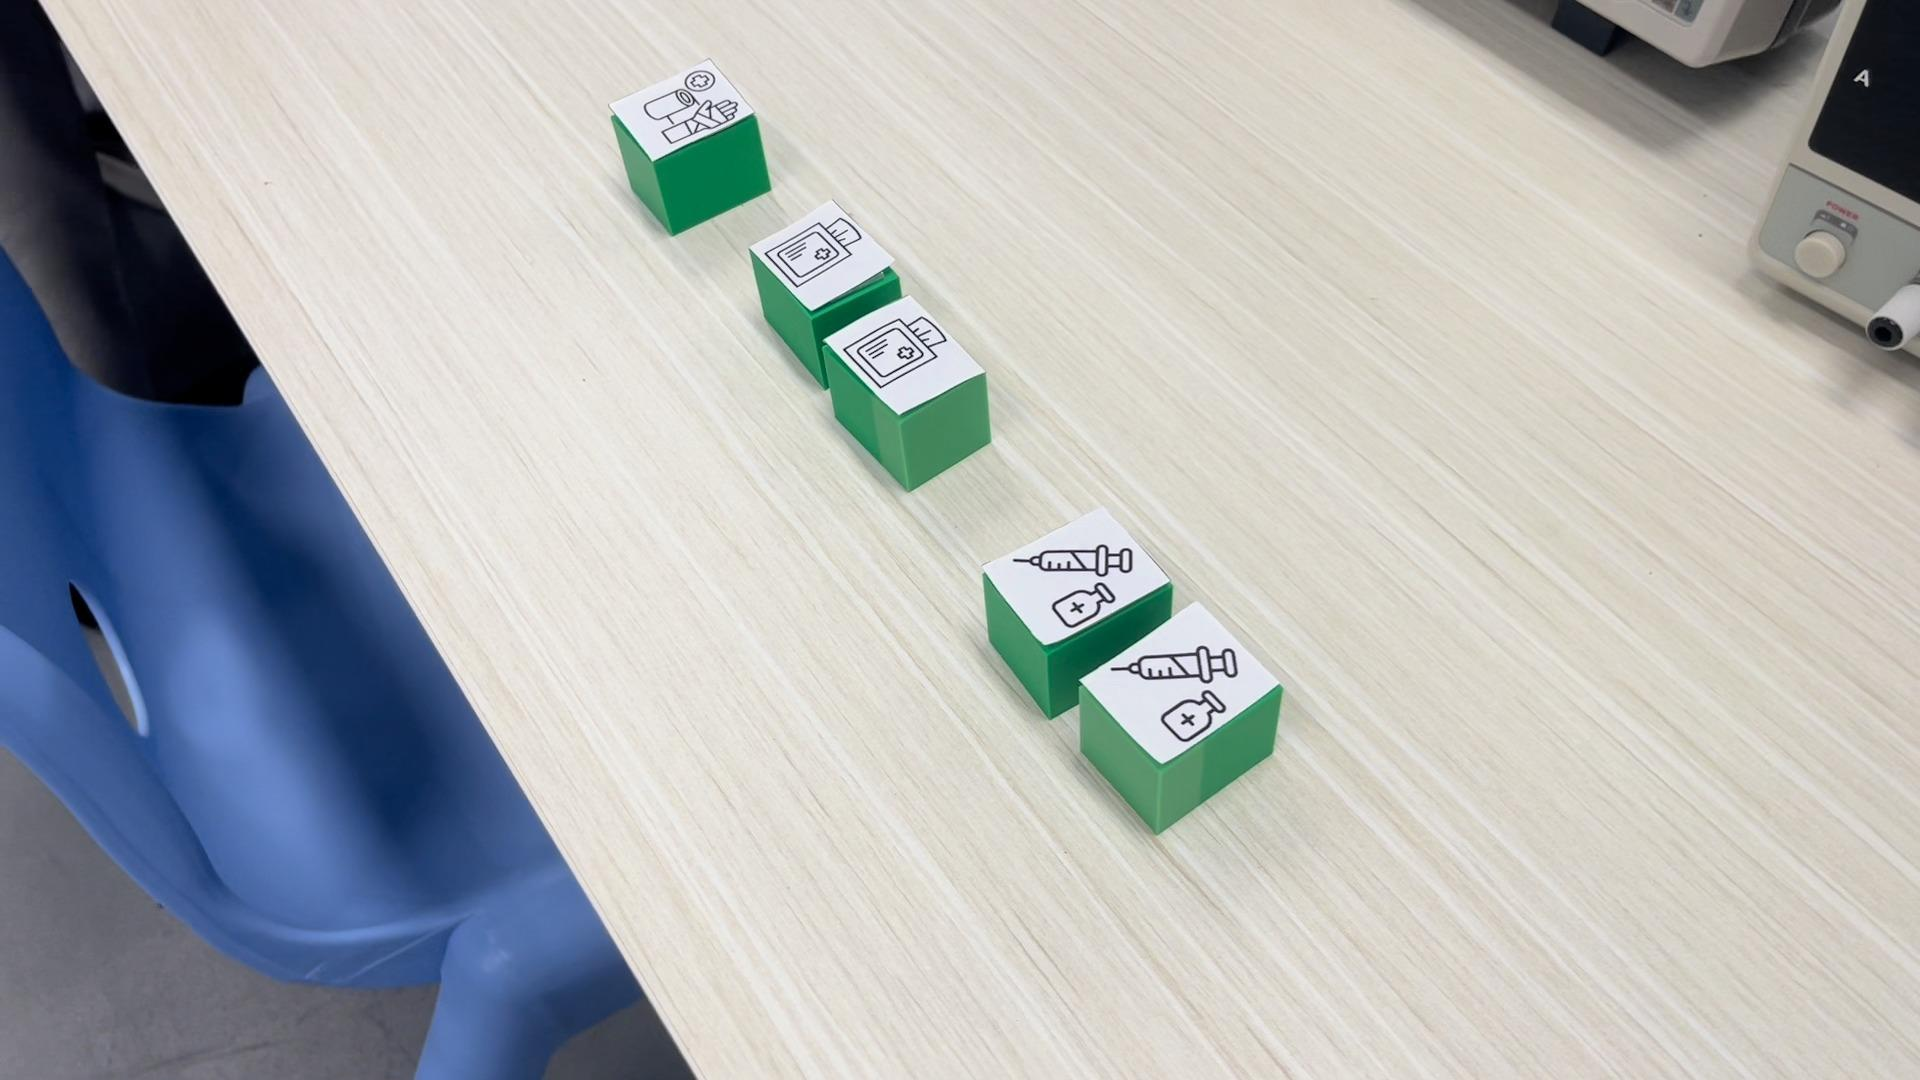Bandages: (607, 61, 773, 236)
Gauze: (822, 291, 992, 492), (750, 202, 898, 319)
antiseptic cream: (1081, 599, 1284, 832), (977, 504, 1174, 661)
